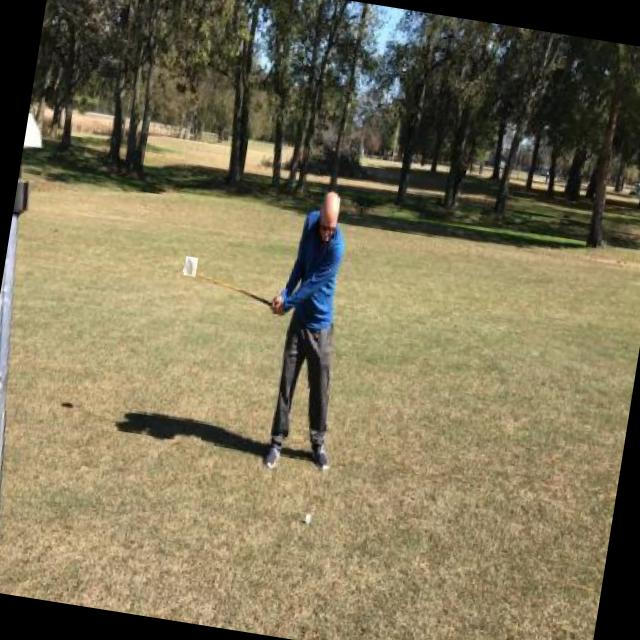club head: (184, 256, 198, 277)
